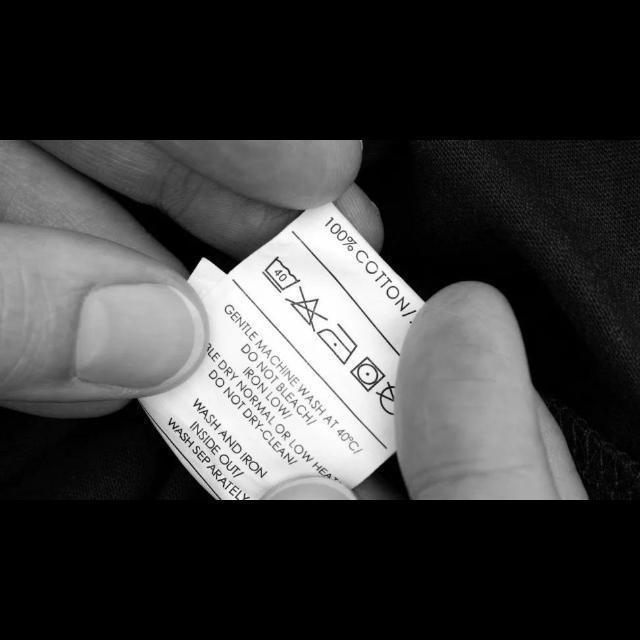40C: (260, 254, 302, 296)
DN_bleach: (284, 285, 328, 333)
DN_dry_clean: (376, 379, 400, 416)
iron_low: (316, 319, 360, 367)
tumble_dry_low: (348, 356, 387, 394)
